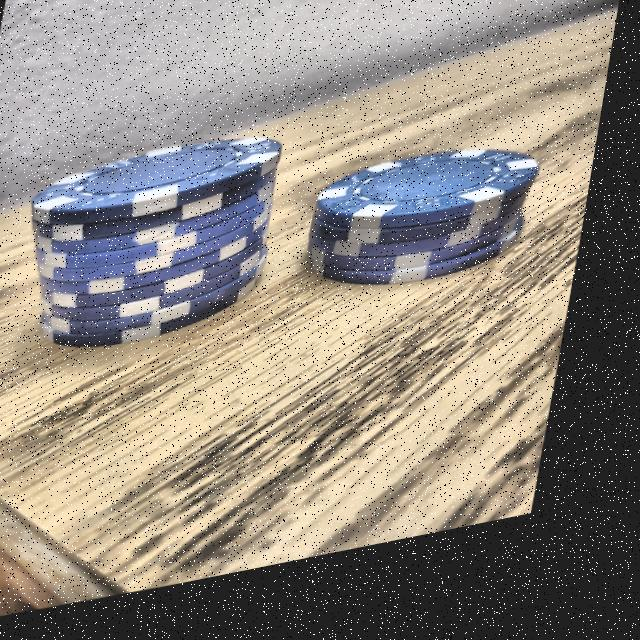Chip: (18, 118, 307, 386), (302, 144, 559, 319)
